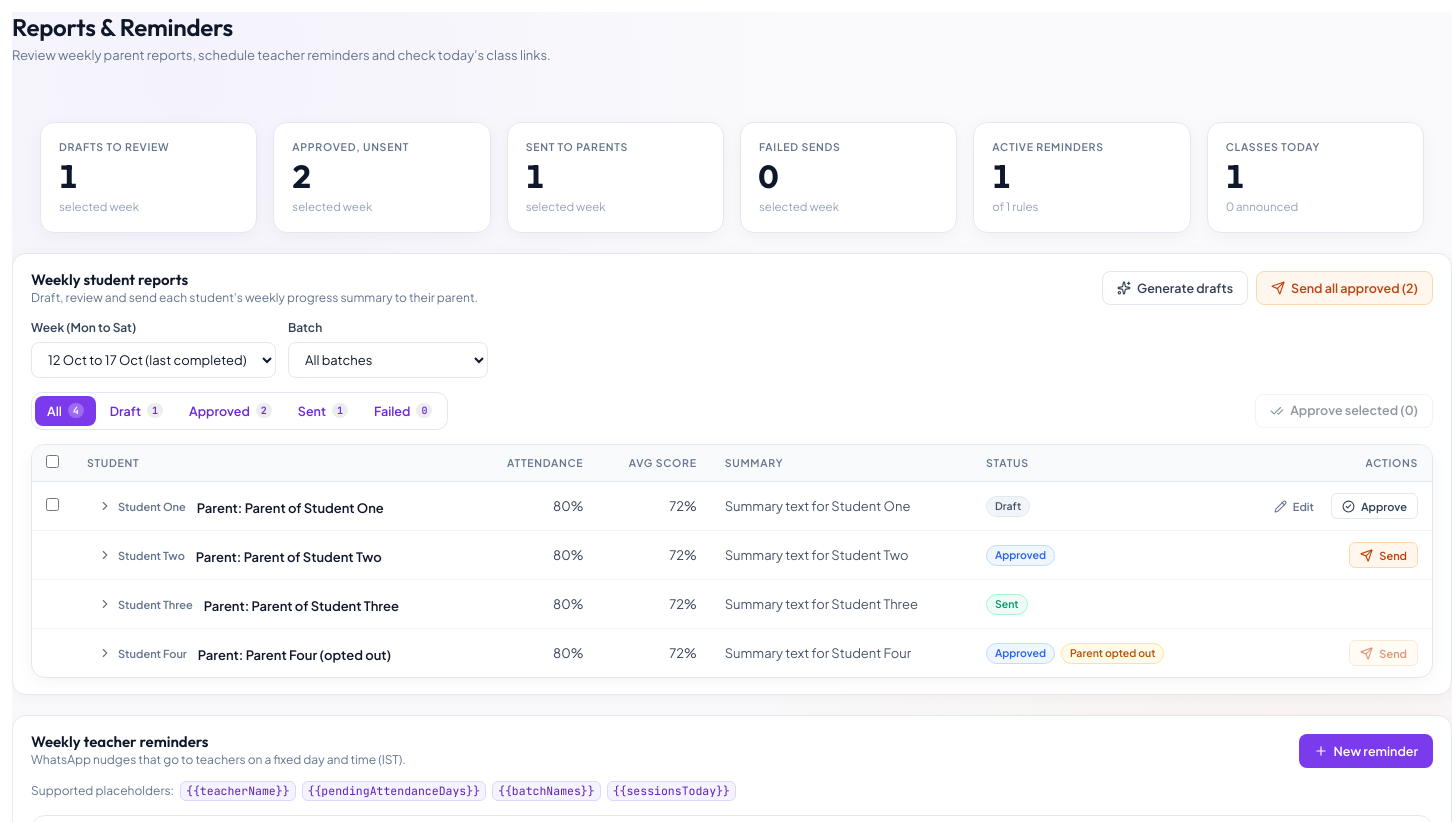
ReportsView: weekly reports › approves a single draft
Expected: the button "Student One" is shown, [87, 493, 197, 519]
Click the button with aria-label "Approve report for Student One" at (1374, 506), box [1331, 493, 1418, 519]
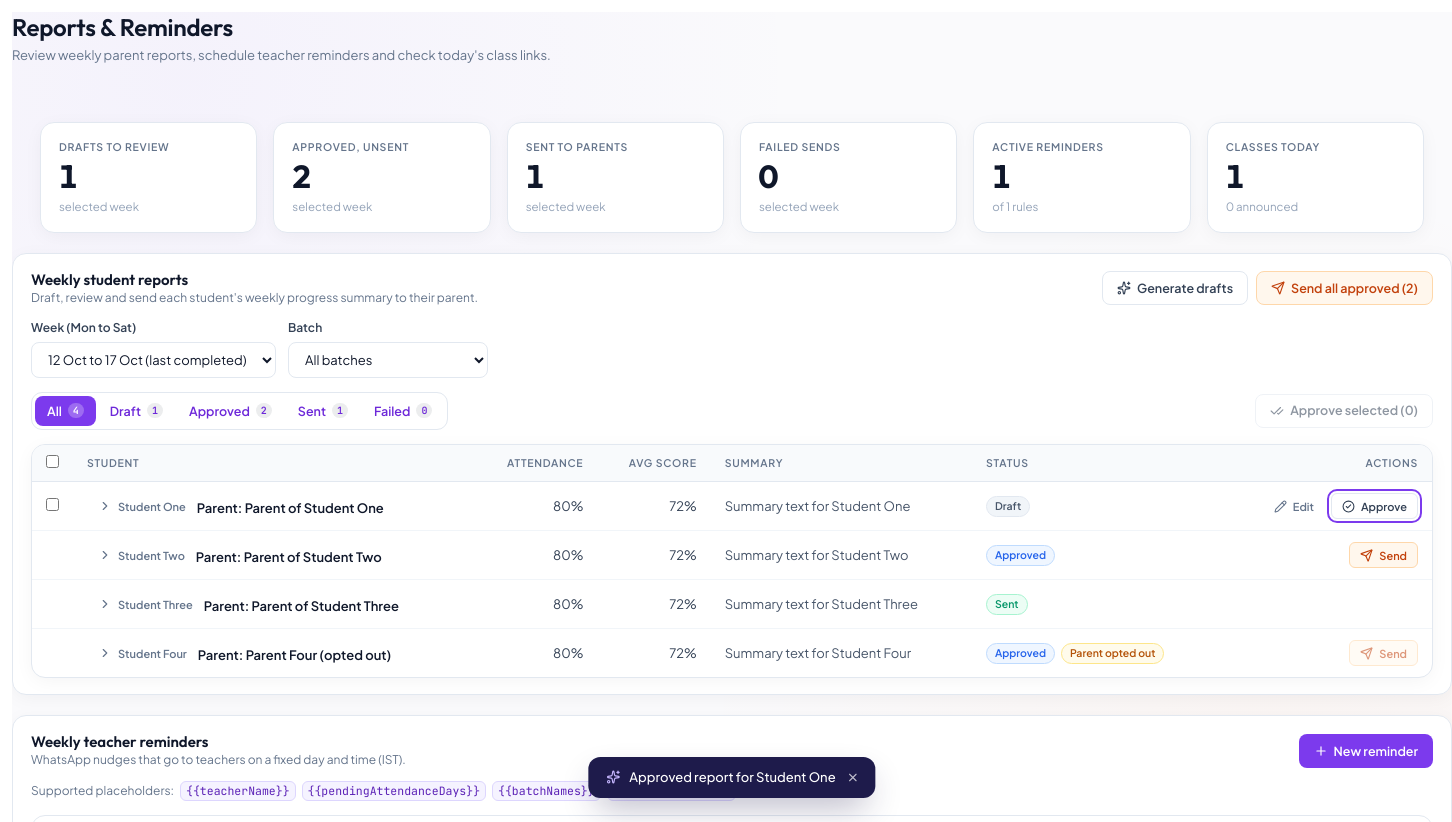
Now the text "Approved report for Student One" is shown, box [588, 756, 876, 798]
